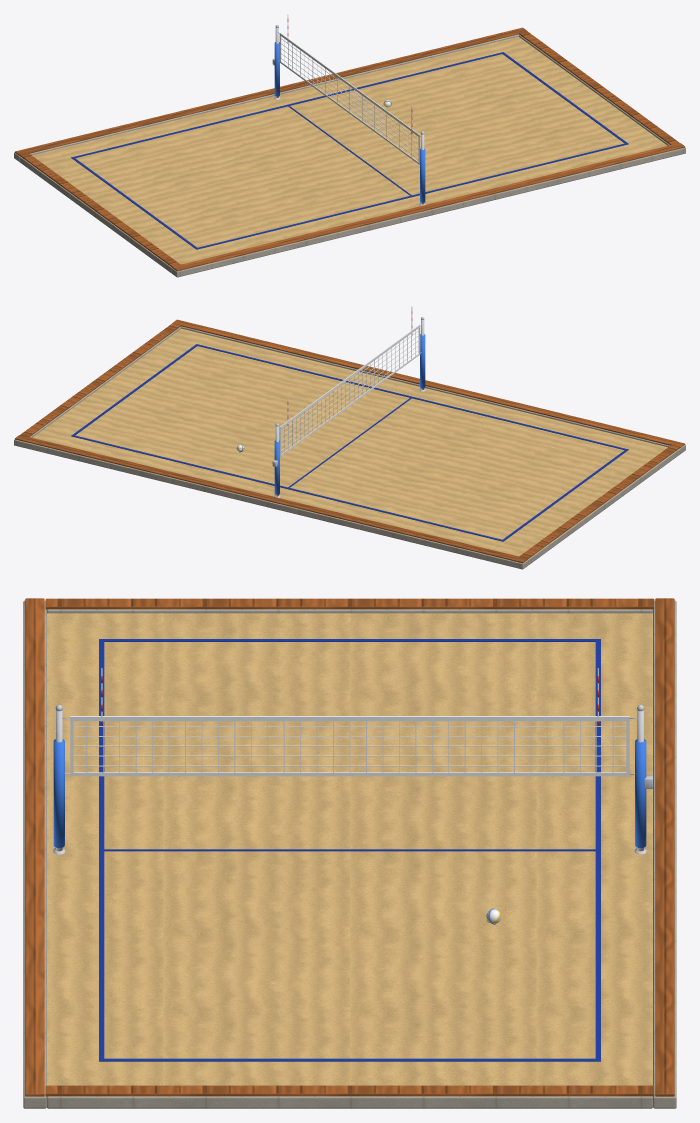
Rendered from landmark_volleyball_court.glb.
3 renders of one model, top to bottom at view 1: azimuth 30°, elevation 25°; view 2: azimuth 150°, elevation 25°; view 3: azimuth 270°, elevation 25°, orthographic. The views are drawn at different scales.
Visible parts, largest first — view 1: VBall_SandBed, VBall_TimberCoping, VBall_StoneCurb, VBall_CourtLines, VBall_WhiteNet, VBall_PostPads; view 2: VBall_SandBed, VBall_TimberCoping, VBall_StoneCurb, VBall_CourtLines, VBall_WhiteNet, VBall_PostPads; view 3: VBall_SandBed, VBall_TimberCoping, VBall_StoneCurb, VBall_WhiteNet, VBall_CourtLines, VBall_PostPads, VBall_AlumPosts.
Boxes of the visible parts, left/top/right/bottom form: VBall_SandBed: left=32, top=36, right=667, bottom=264; VBall_TimberCoping: left=15, top=27, right=684, bottom=271; VBall_StoneCurb: left=14, top=34, right=685, bottom=277; VBall_CourtLines: left=71, top=52, right=628, bottom=249; VBall_WhiteNet: left=279, top=14, right=420, bottom=164; VBall_PostPads: left=274, top=42, right=425, bottom=202; VBall_SandBed: left=32, top=328, right=667, bottom=556; VBall_TimberCoping: left=15, top=319, right=684, bottom=563; VBall_StoneCurb: left=14, top=326, right=685, bottom=569; VBall_CourtLines: left=71, top=344, right=628, bottom=541; VBall_WhiteNet: left=279, top=306, right=420, bottom=456; VBall_PostPads: left=239, top=334, right=425, bottom=494; VBall_SandBed: left=47, top=613, right=652, bottom=1085; VBall_TimberCoping: left=25, top=598, right=674, bottom=1096; VBall_StoneCurb: left=23, top=600, right=676, bottom=1108; VBall_WhiteNet: left=70, top=668, right=629, bottom=776; VBall_CourtLines: left=99, top=639, right=600, bottom=1061; VBall_PostPads: left=53, top=739, right=646, bottom=924; VBall_AlumPosts: left=53, top=704, right=652, bottom=854.
Bounding box in the file's own units: 18 × 3.24 × 10.
Materials: 9 (3 with a texture image).
